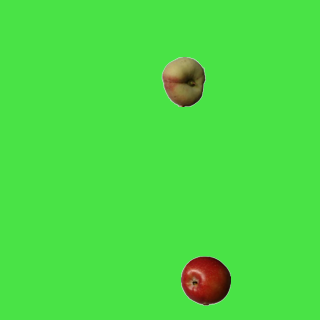Apple Braeburn: (180, 255, 230, 305)
Peach Flat: (158, 56, 208, 106)
